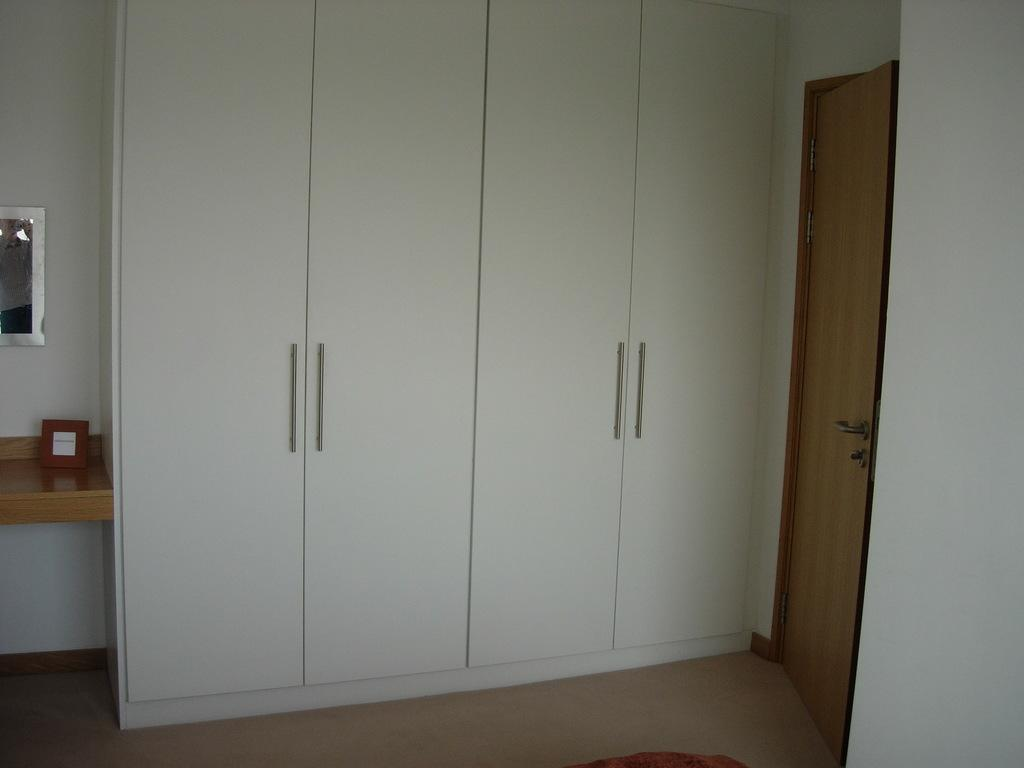cabinet_door: (136, 6, 306, 682), (317, 2, 467, 669), (494, 8, 620, 650), (630, 33, 756, 643)
handle: (610, 331, 626, 434), (286, 335, 300, 450), (316, 336, 328, 452), (638, 343, 652, 437), (830, 418, 868, 442)
